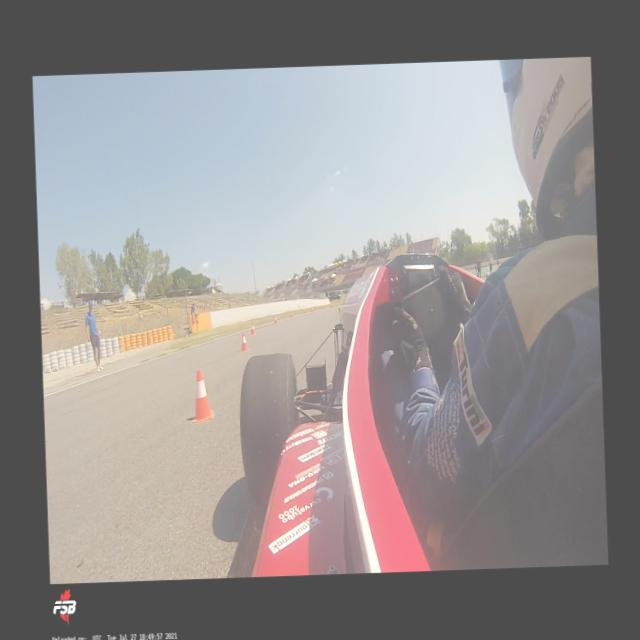orange_cone: (190, 368, 213, 423), (240, 332, 249, 352), (250, 322, 254, 334), (274, 315, 277, 323), (290, 310, 293, 316), (311, 305, 313, 312)
yellow_cone: (338, 306, 340, 314), (303, 306, 305, 310)
